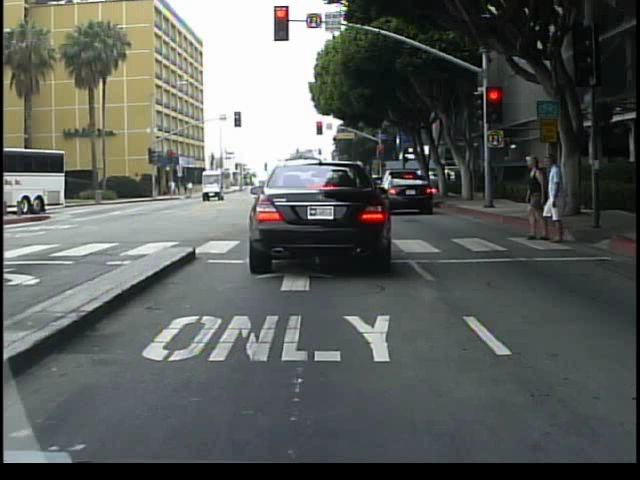person: (546, 152, 575, 249), (520, 157, 547, 243)
